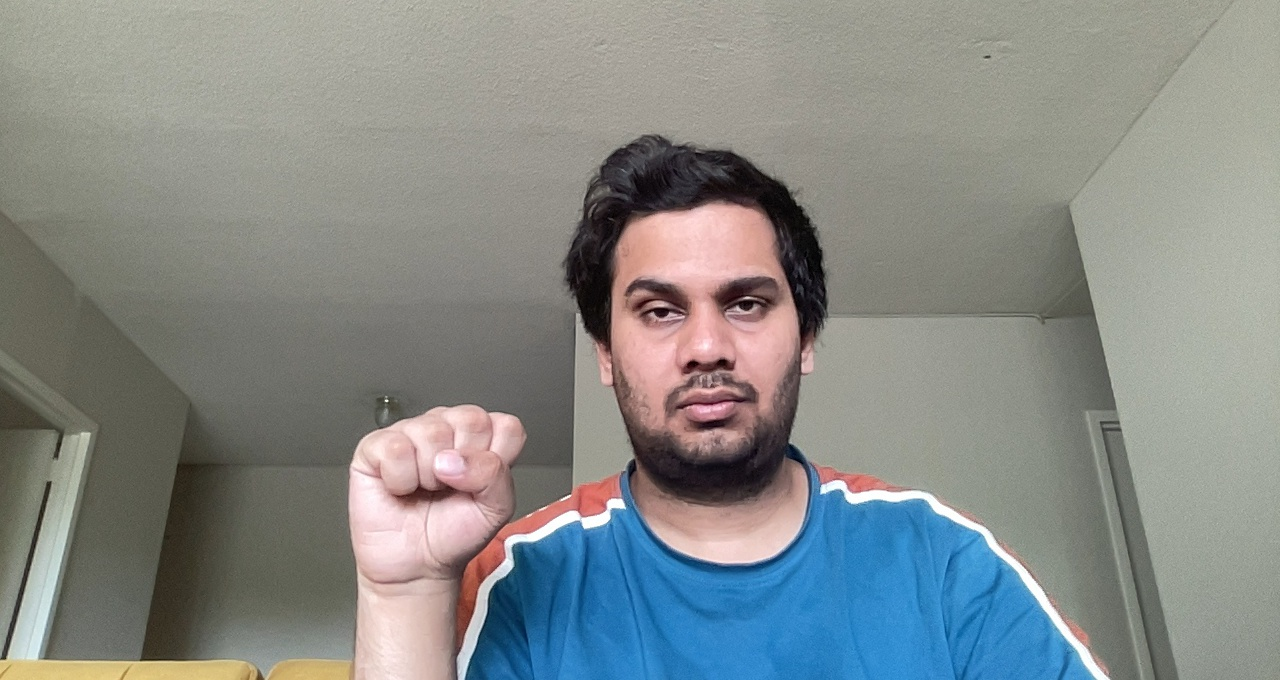closedfist: (342, 400, 535, 600)
